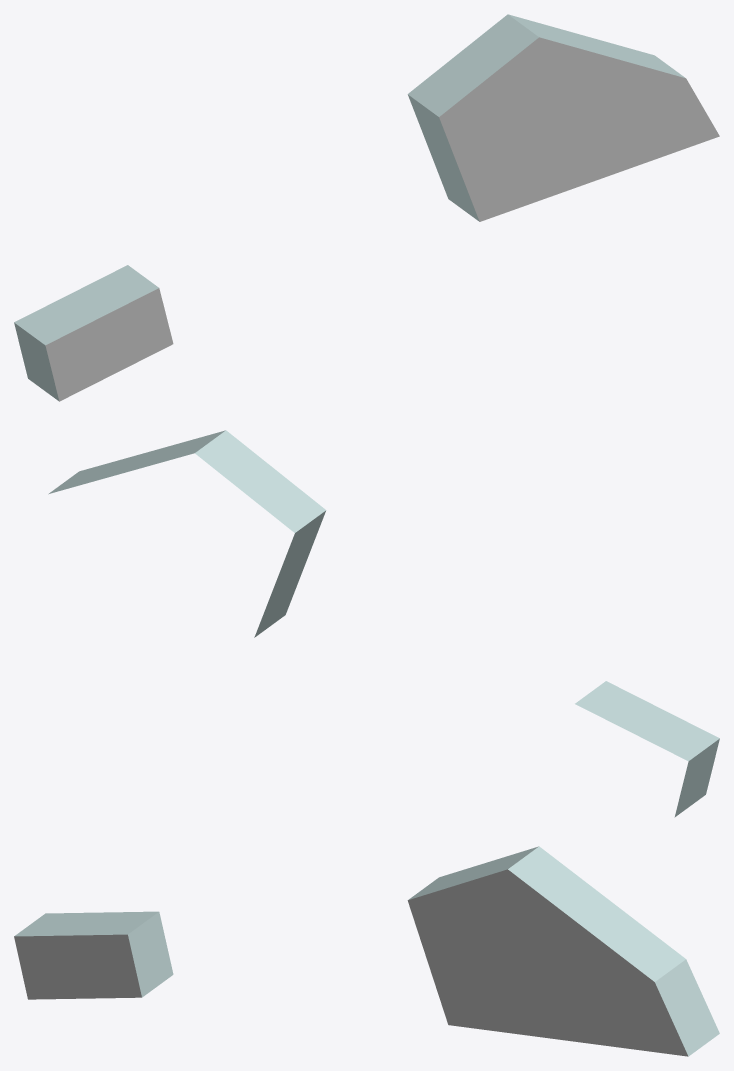
The picture shows the model from 3 angles, top to bottom: view 1: azimuth 30°, elevation 25°; view 2: azimuth 150°, elevation 25°; view 3: azimuth 330°, elevation 25°; orthographic projection.
Parts seen in each view (by area): view 1: 0_1_0_1_1_3_1_3_3; view 2: 0_1_0_1_1_3_1_3_3; view 3: 0_1_0_1_1_3_1_3_3.
Boxes of the visible parts, x1,y1,x2,y2 form: 0_1_0_1_1_3_1_3_3: (14, 14, 719, 401); 0_1_0_1_1_3_1_3_3: (48, 430, 719, 817); 0_1_0_1_1_3_1_3_3: (14, 846, 719, 1056).
Size of the model in its own units: 37.15 by 13.02 by 3.
